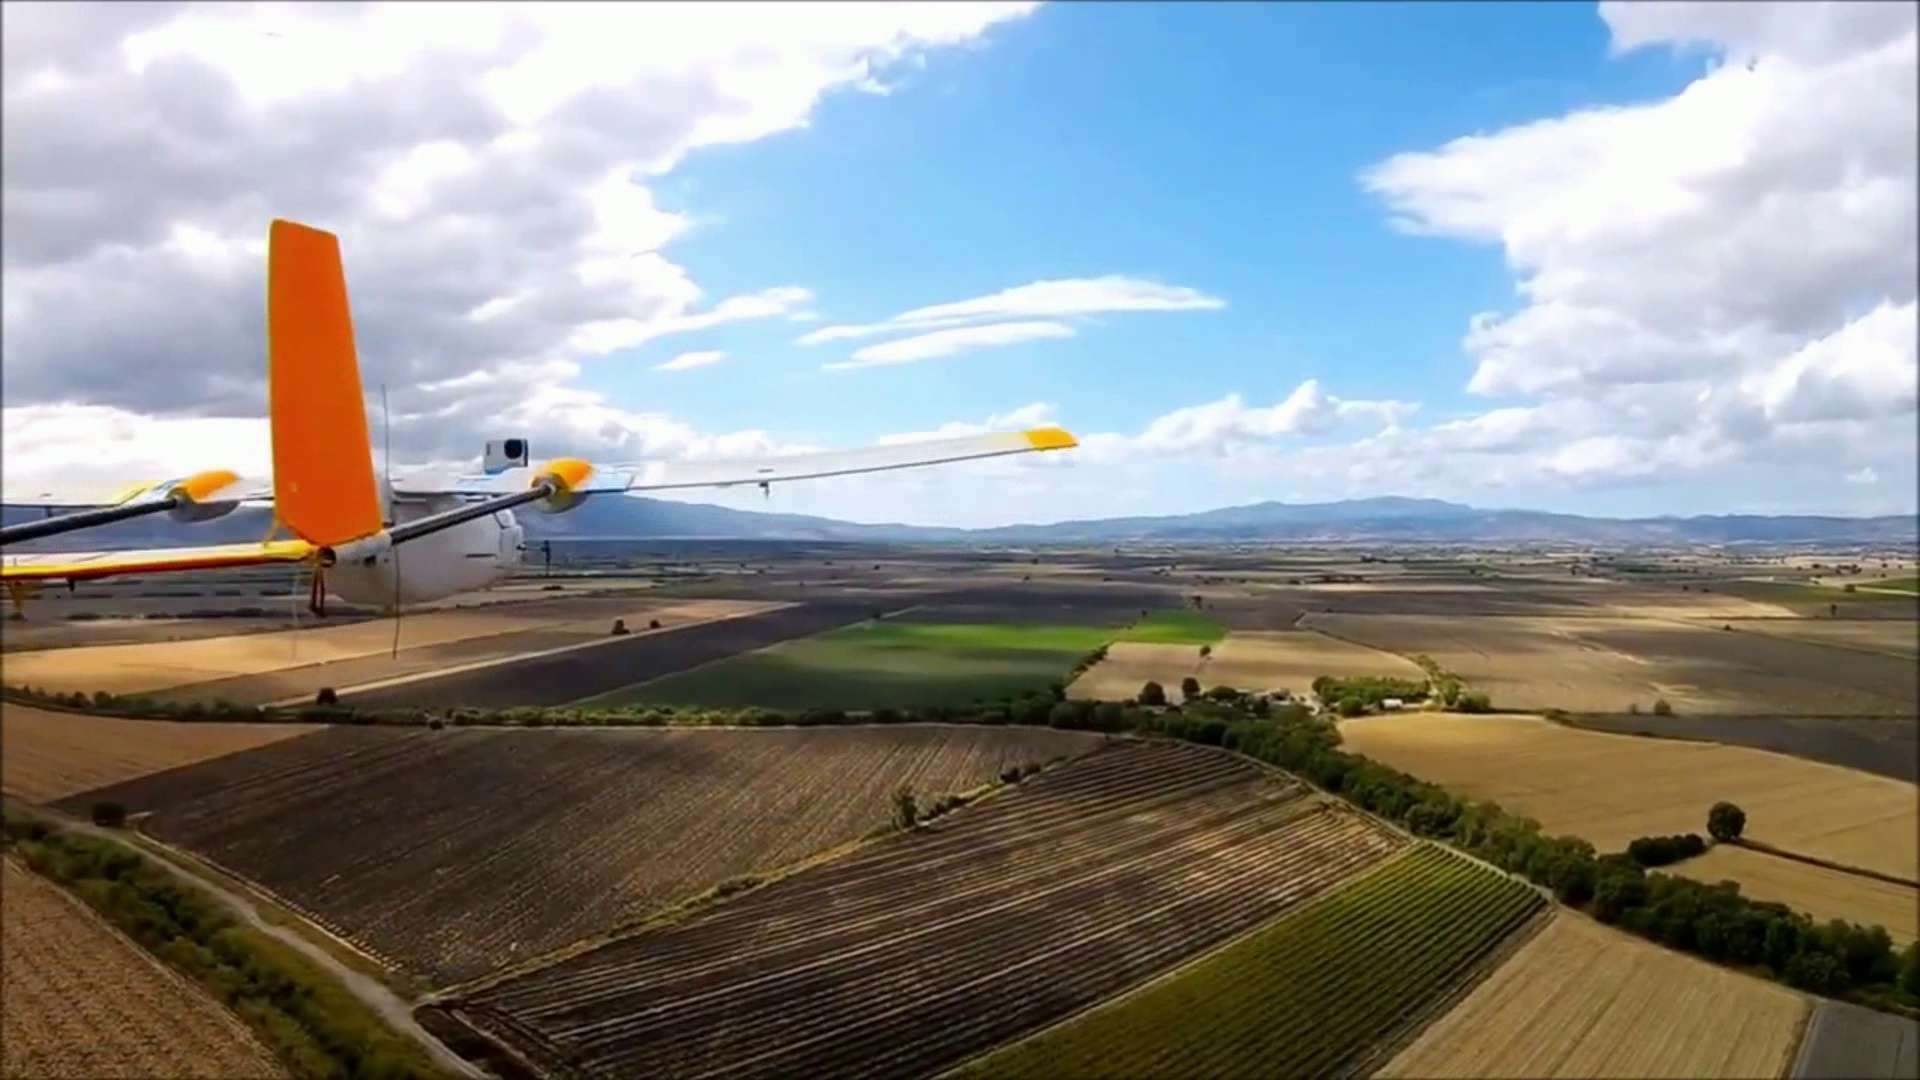airplane: (5, 218, 1069, 621), (0, 465, 248, 549)
